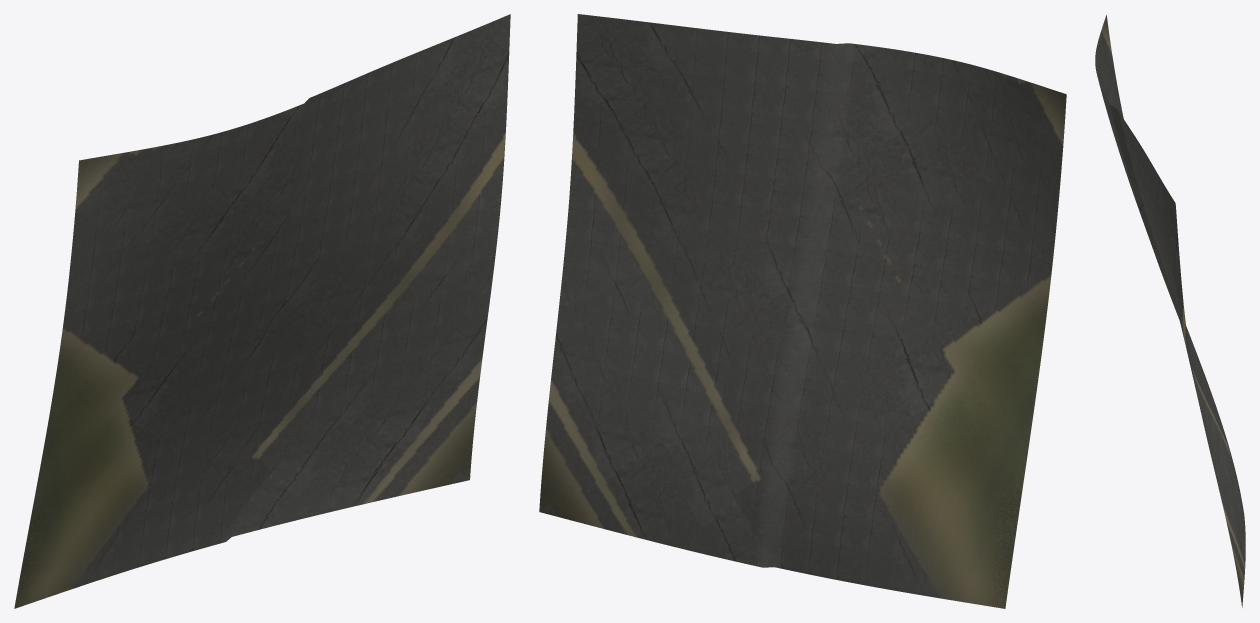
Rendered from ground_core_06_02.obj.
The picture shows the model from 3 angles, left to right: view 1: azimuth 30°, elevation 25°; view 2: azimuth 150°, elevation 25°; view 3: azimuth 270°, elevation 25°; orthographic projection. The views are drawn at different scales.
Visible parts, largest first — view 1: ground_core_06_02; view 2: ground_core_06_02; view 3: ground_core_06_02.
Part boxes in pixels (x1=…): ground_core_06_02: x1=14, y1=14, x2=510, y2=608; ground_core_06_02: x1=539, y1=14, x2=1066, y2=608; ground_core_06_02: x1=1095, y1=15, x2=1245, y2=607.
Bounding box in the file's own units: 50 × 50 × 16.82.
Materials: 1 (1 with a texture image).
